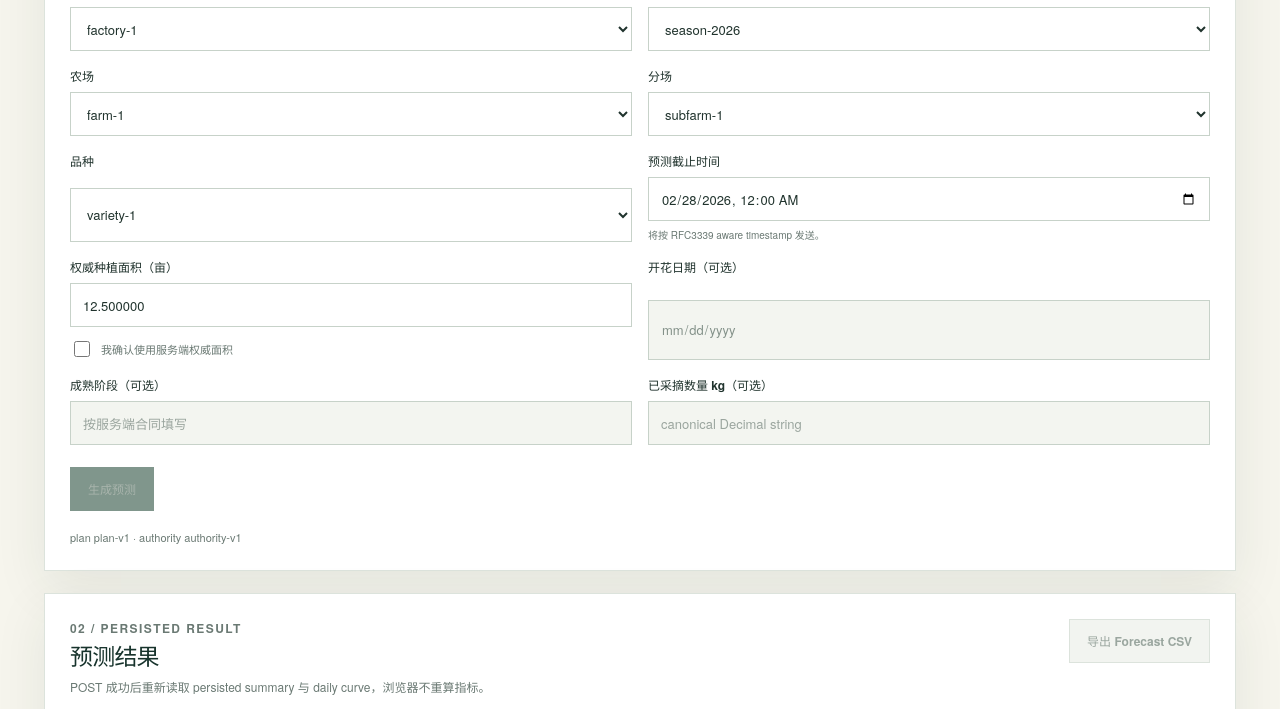
Test: ForecastPage › resets area confirmation when the selected authority item changes
(page scrolled)
expect the dropdown labelled "农场" shows "farm-1": met, box [70,92,632,136]
Click the checkbox labelled "我确认使用服务端权威面积" at (82, 349), box [74,341,90,357]
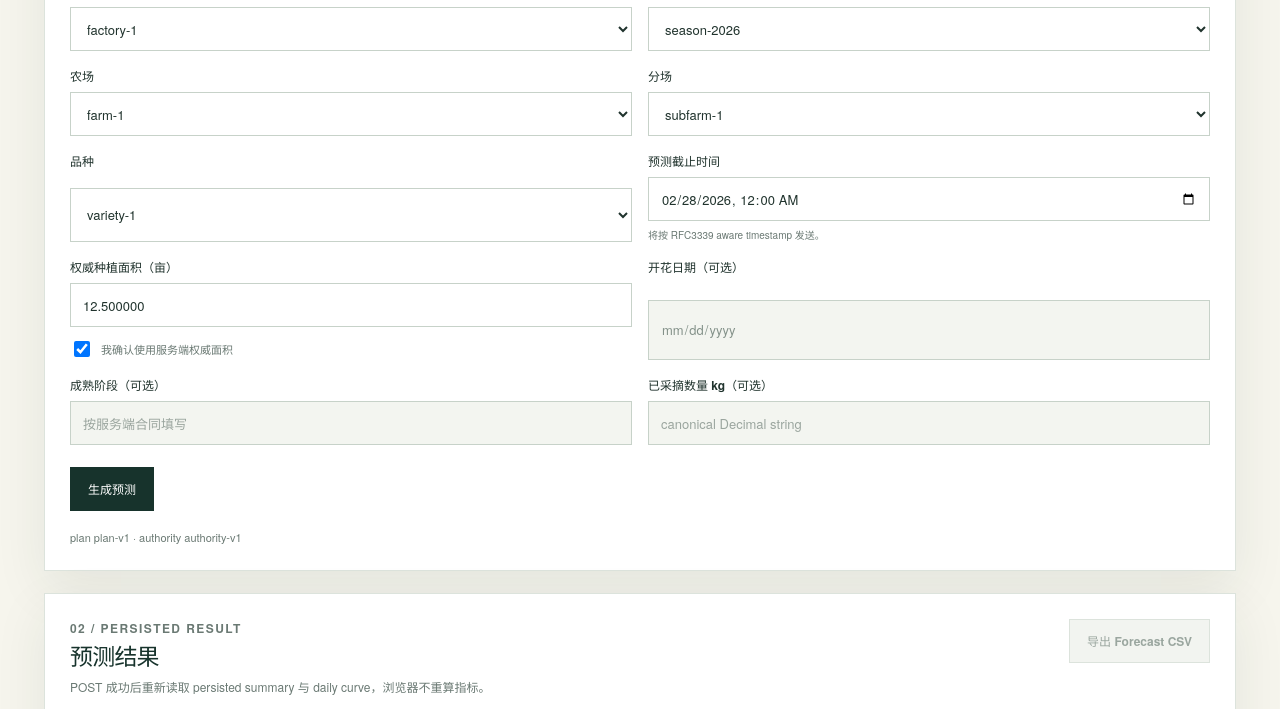
expect the checkbox labelled "我确认使用服务端权威面积" is checked: met, box [74,341,90,357]
expect the button "生成预测" is enabled: met, box [70,467,154,511]
Select "farm-2" in the dropdown labelled "农场" at (351, 114), box [70,92,632,136]
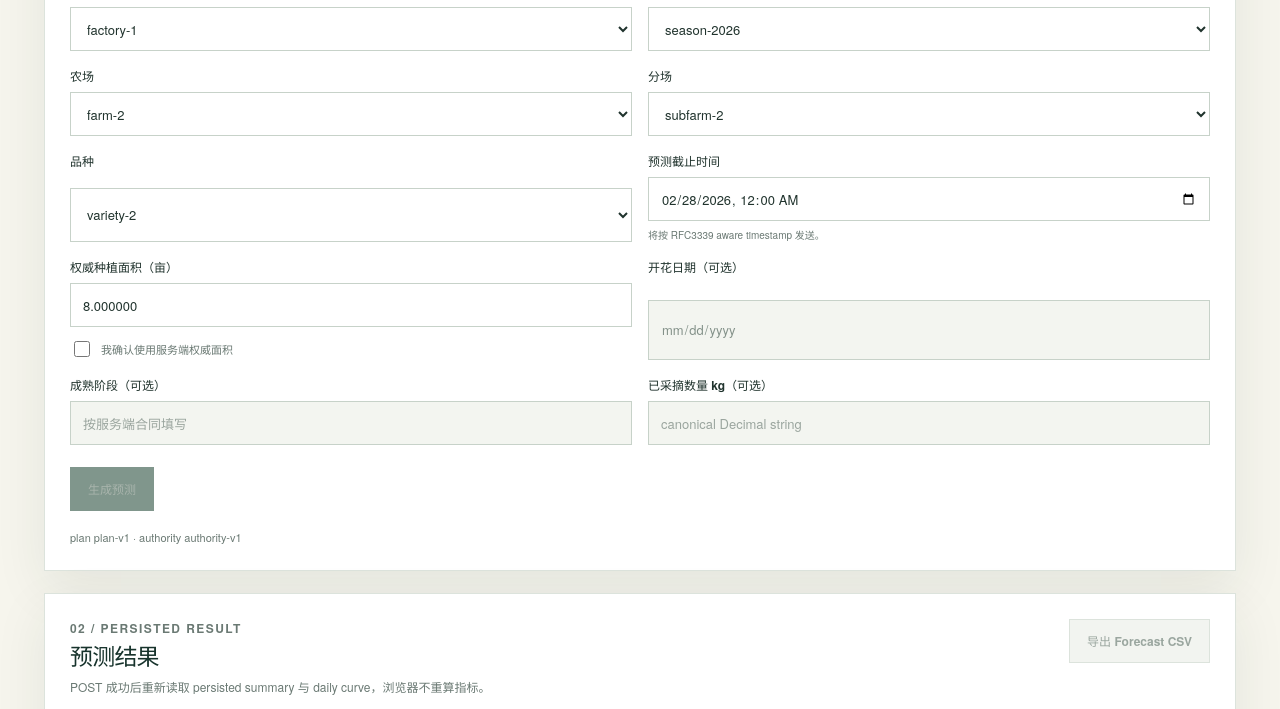
expect the checkbox labelled "我确认使用服务端权威面积" is not checked: met, box [74,341,90,357]
expect the field labelled "权威种植面积（亩）" holds "8.000000": met, box [70,283,632,327]
expect the button "生成预测" is disabled: met, box [70,467,154,511]
